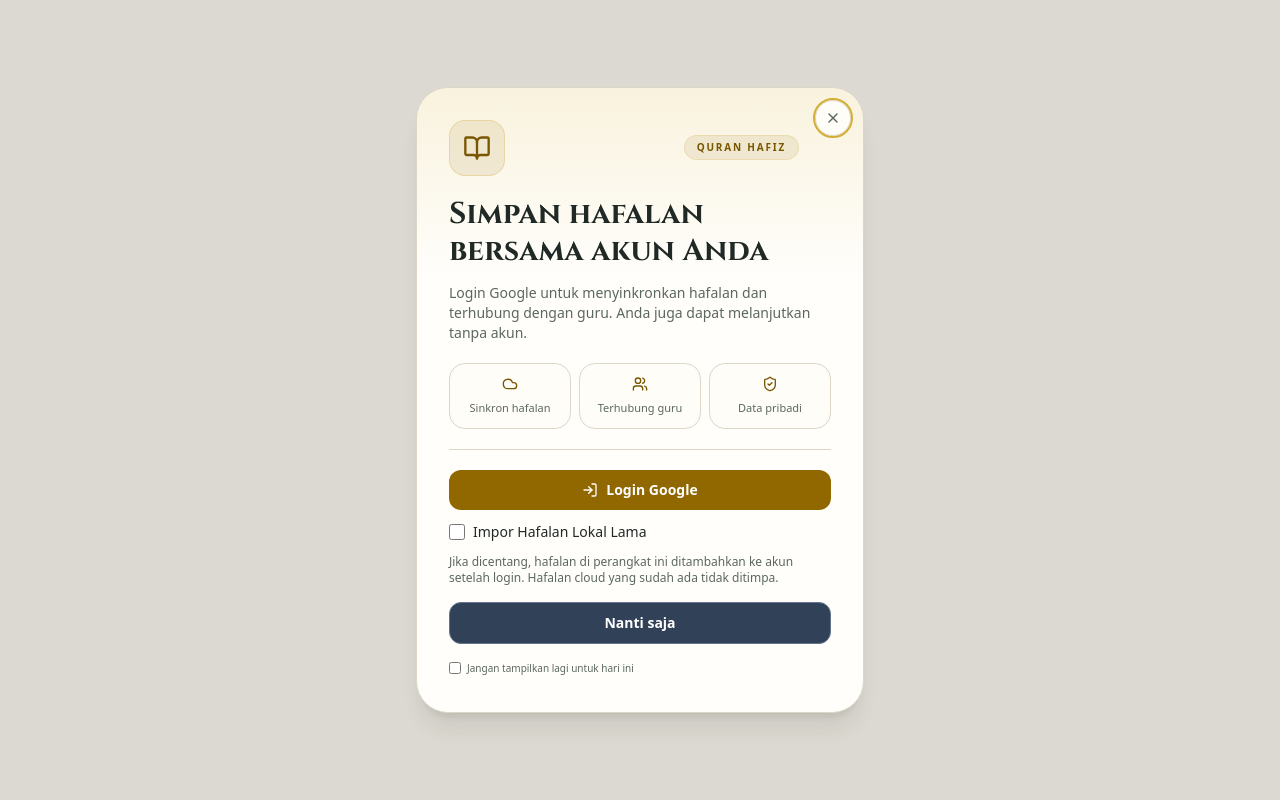
Test: Google login with optional local import › keeps the banner open and explains an import failure
The image size is (1280, 800).
Click the checkbox labelled "Impor Hafalan Lokal Lama" at (457, 532), box x1=449 y1=524 x2=465 y2=540
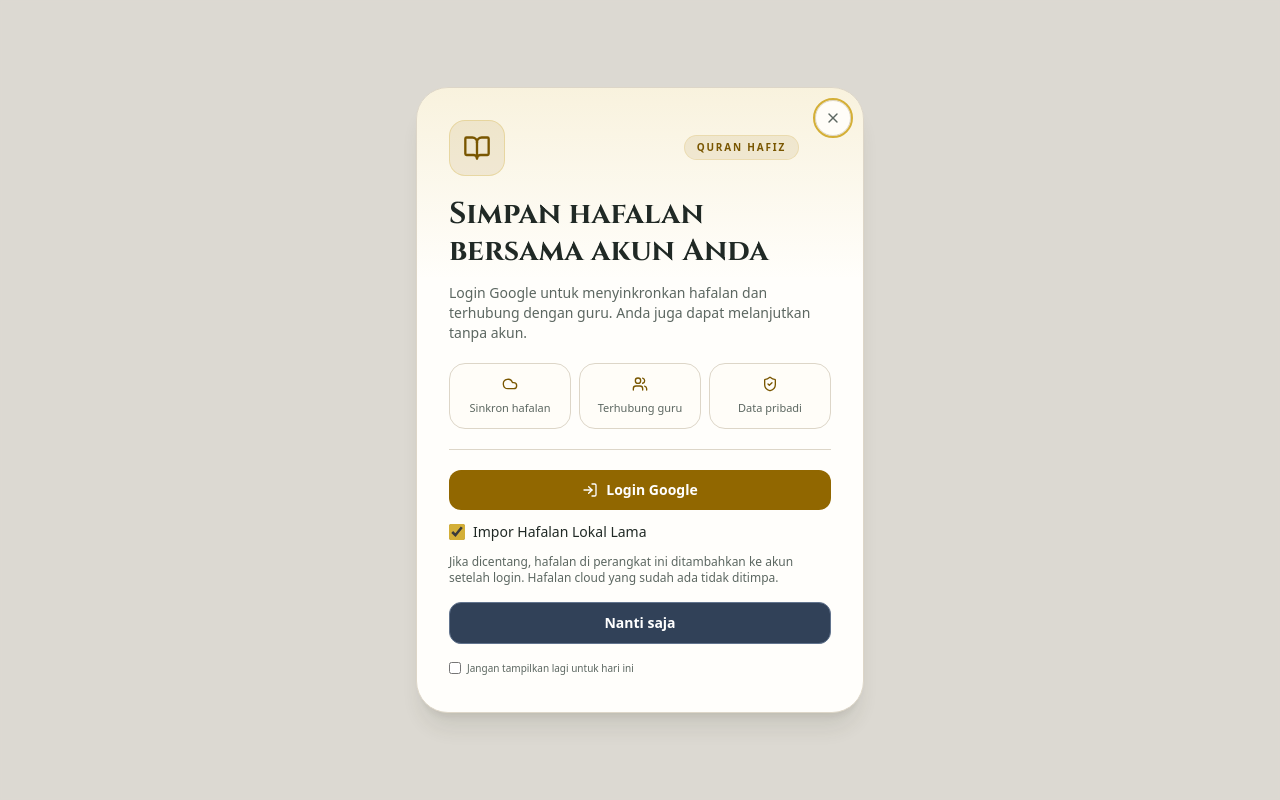
Click the button "Login Google" at (640, 490), box x1=449 y1=470 x2=831 y2=510
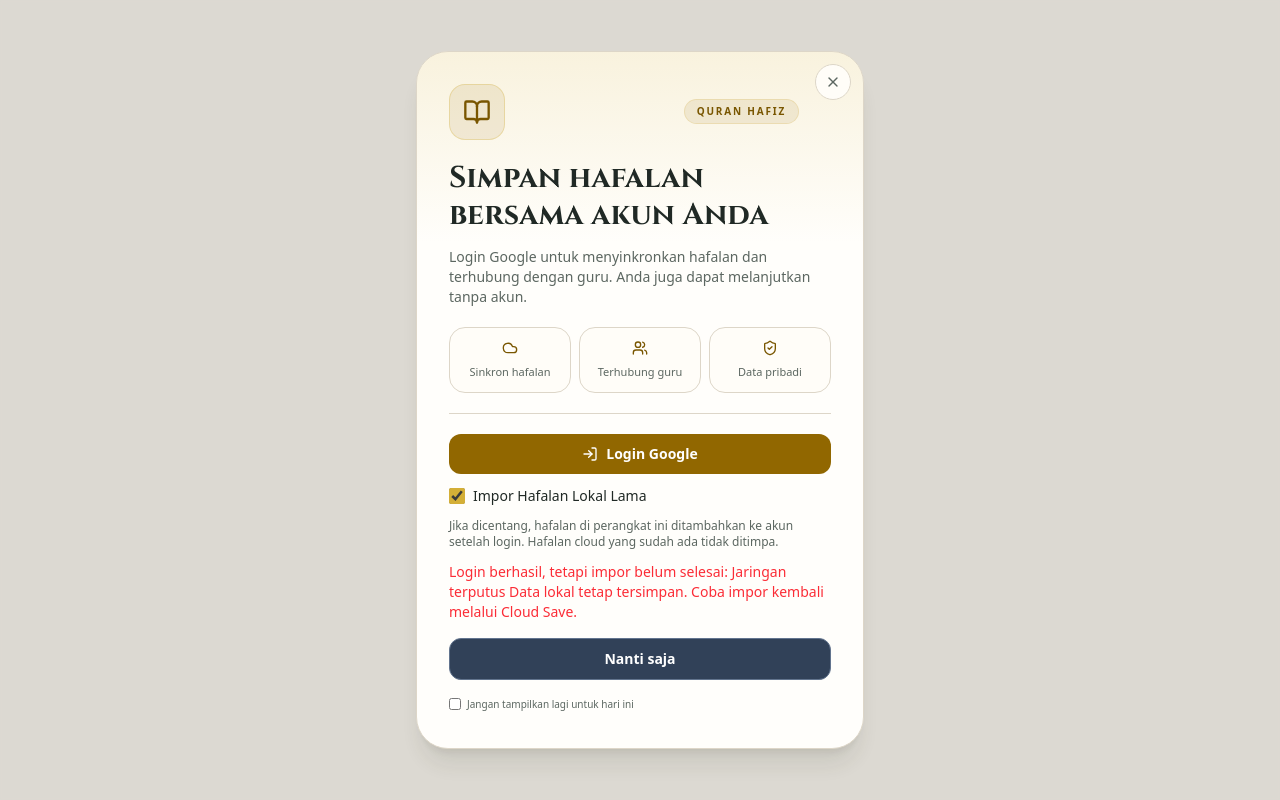
Expected: the dialog is shown, x1=416 y1=51 x2=864 y2=749
Now the message shows "Data lokal tetap tersimpan", box x1=449 y1=562 x2=824 y2=621
